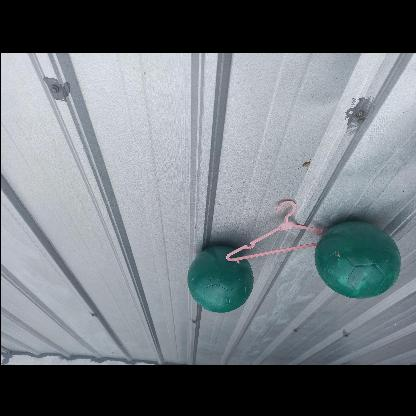green_ball: (315, 216, 399, 300), (186, 249, 250, 314)
